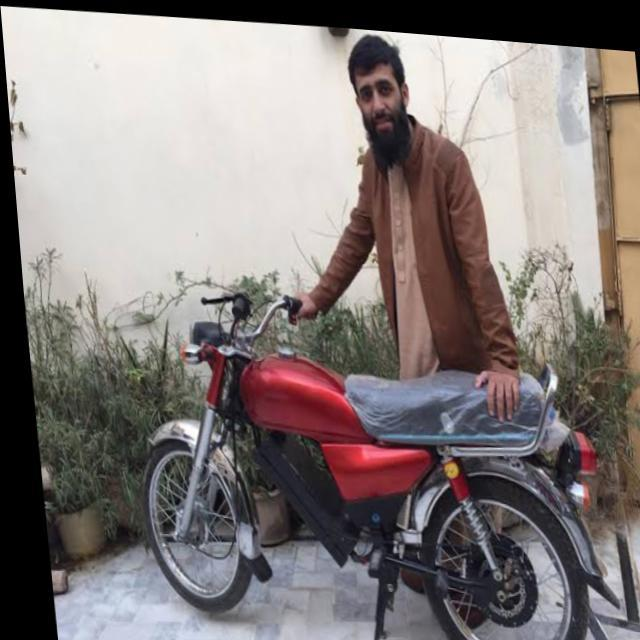Nonhelmet: (342, 32, 416, 164)
